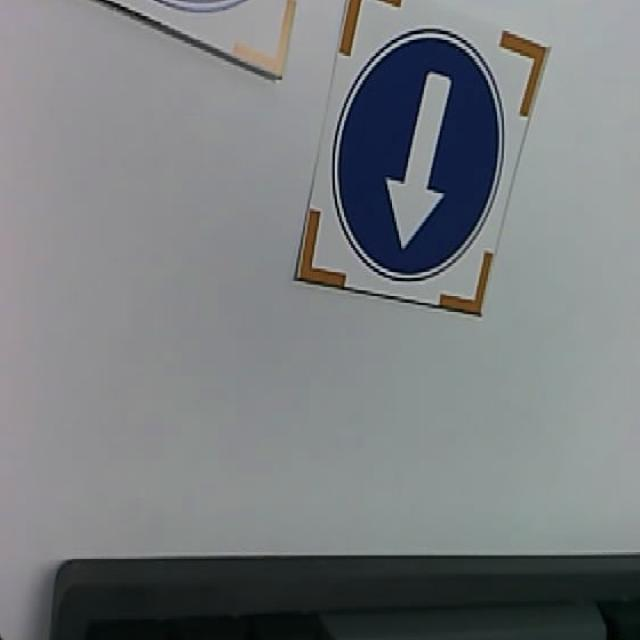straight: (295, 0, 546, 317)
